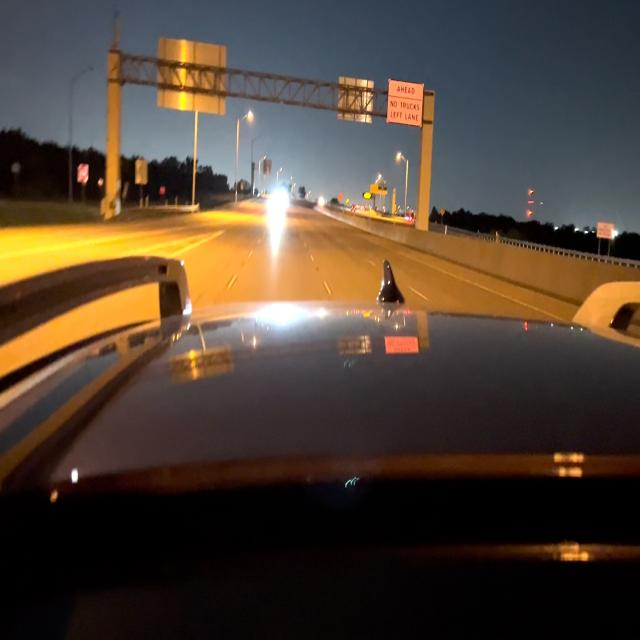back-of-sign: (158, 35, 226, 118), (339, 75, 375, 126)
